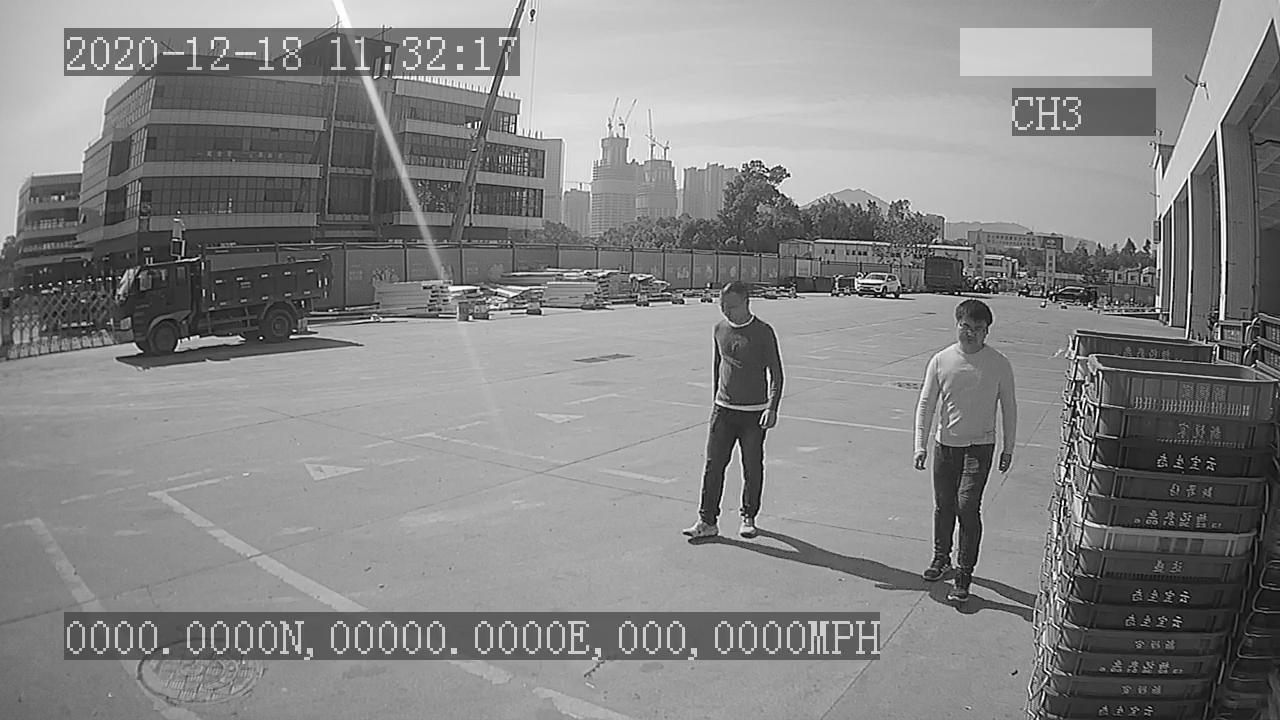person: (911, 293, 1017, 606), (680, 278, 790, 542)
